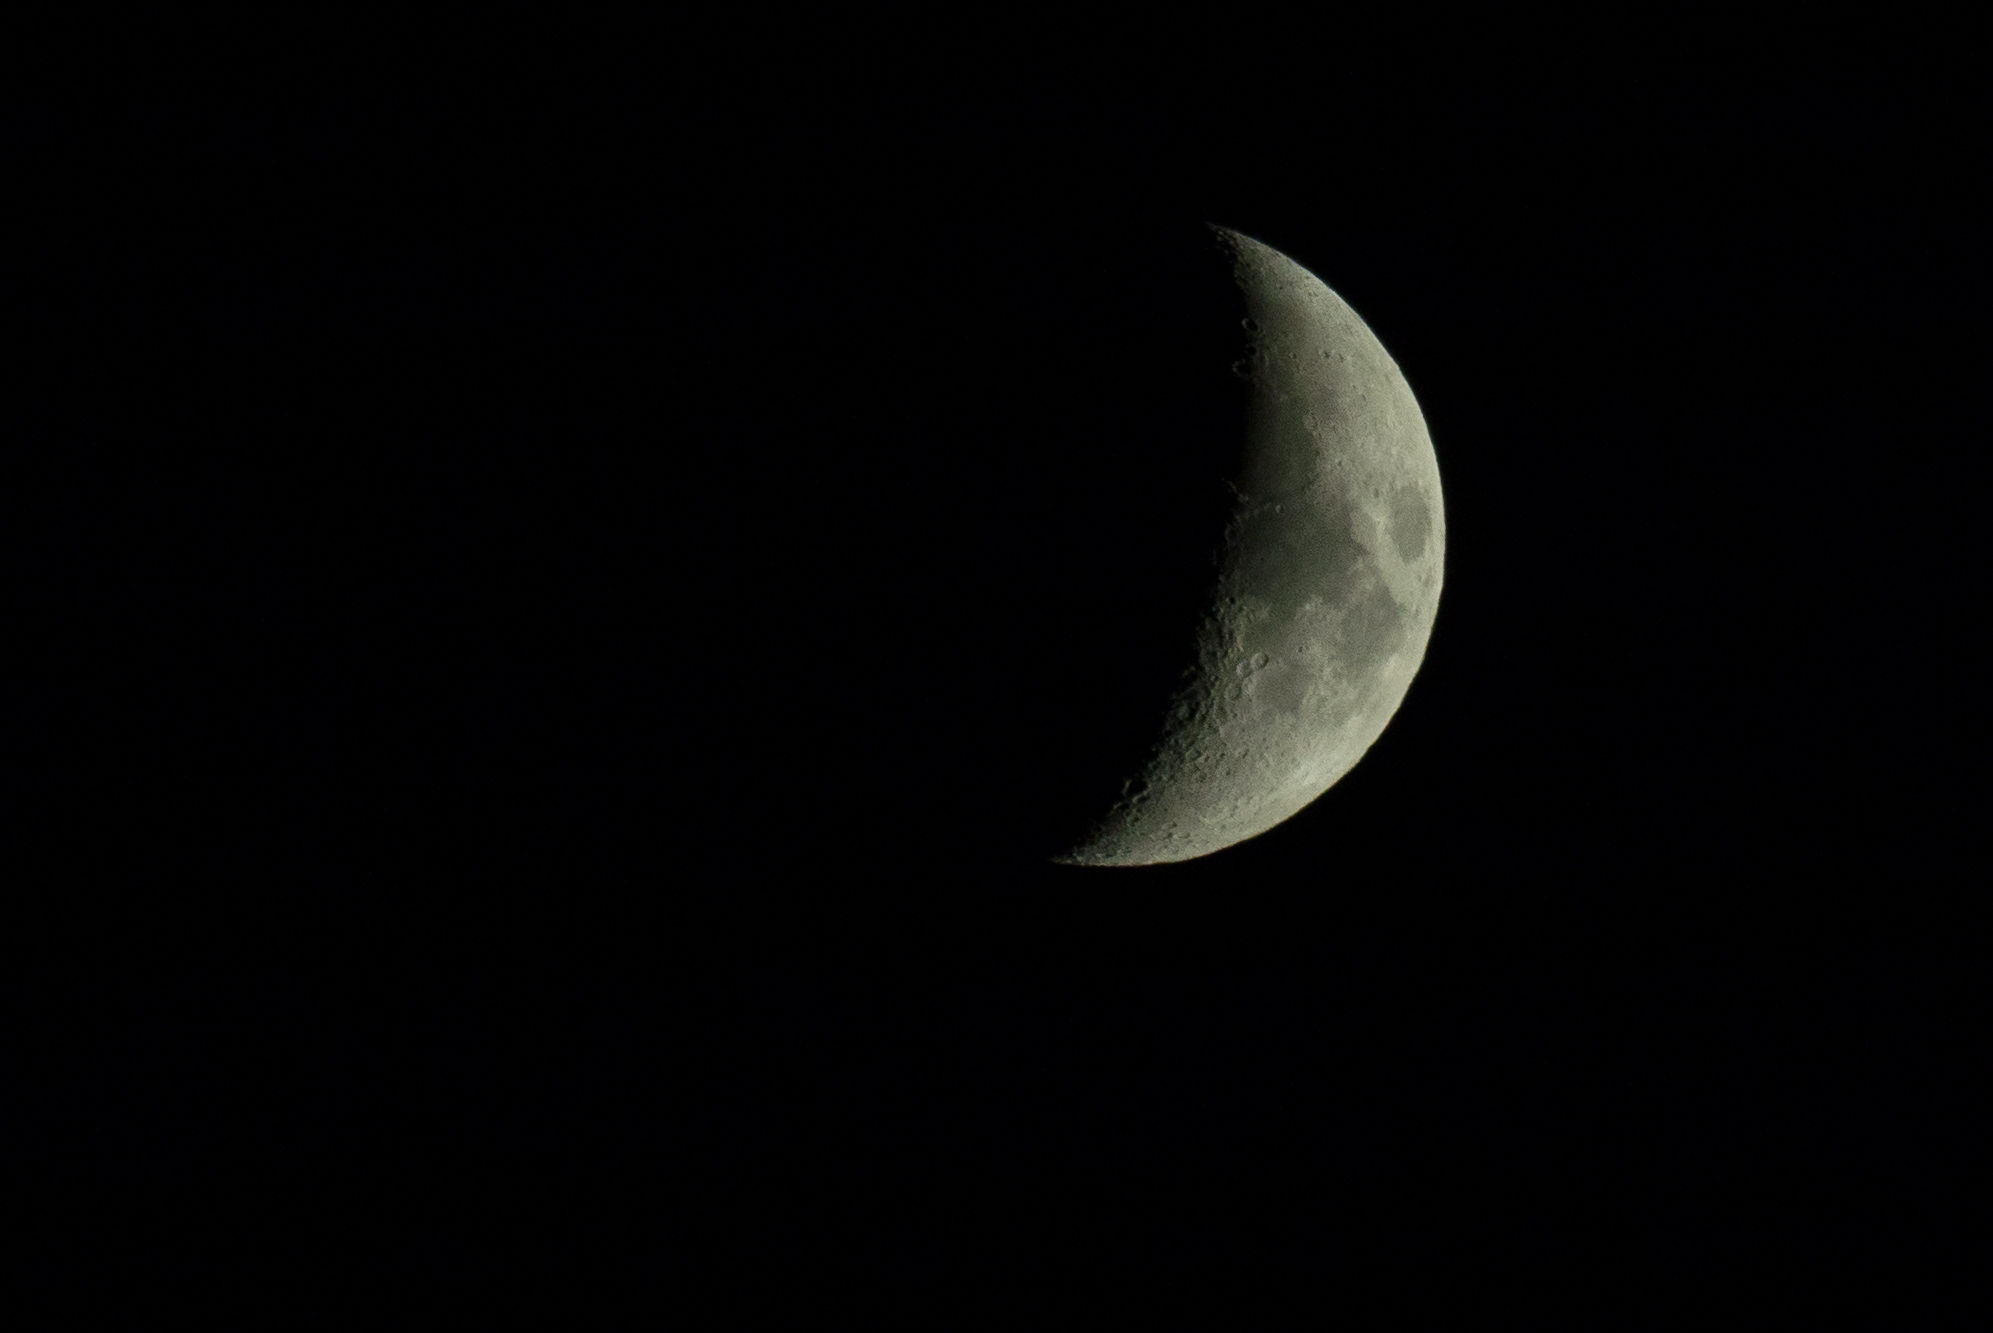crater: (1226, 305, 1278, 335), (1356, 473, 1391, 509), (1220, 356, 1263, 384), (1249, 647, 1278, 680), (1178, 744, 1212, 771), (1310, 341, 1336, 367), (1333, 452, 1348, 472)
